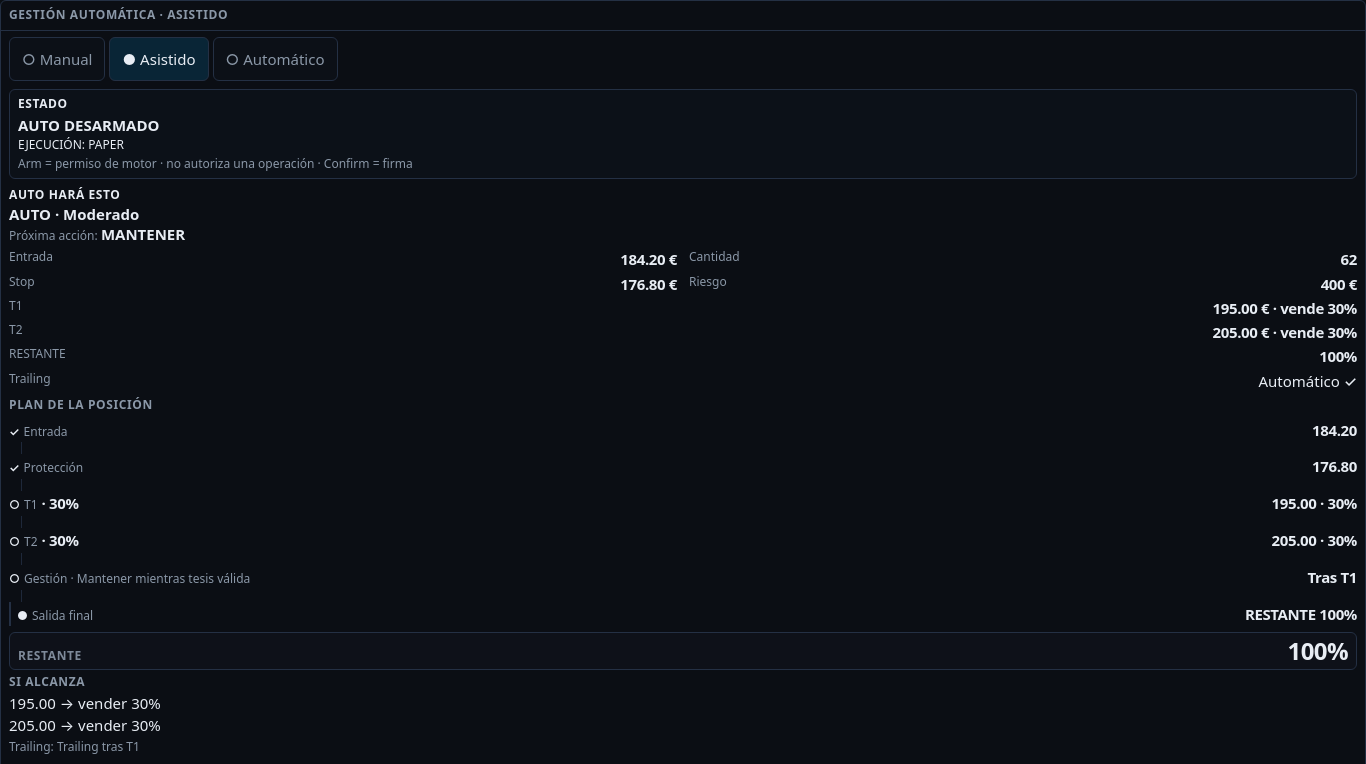
Test: AutoDeskPanel V2.39 arm honesty › V2.46 — stale arm latch in SEMI chrome stays DESARMADO until AUTO active
Expected: the text with test id "auto-desk-arm-state-label" reads "AUTO DESARMADO", [18,115,160,135]
Click the button with test id "auto-desk-mode-auto". click: (275, 59)
box: [212,37,338,81]
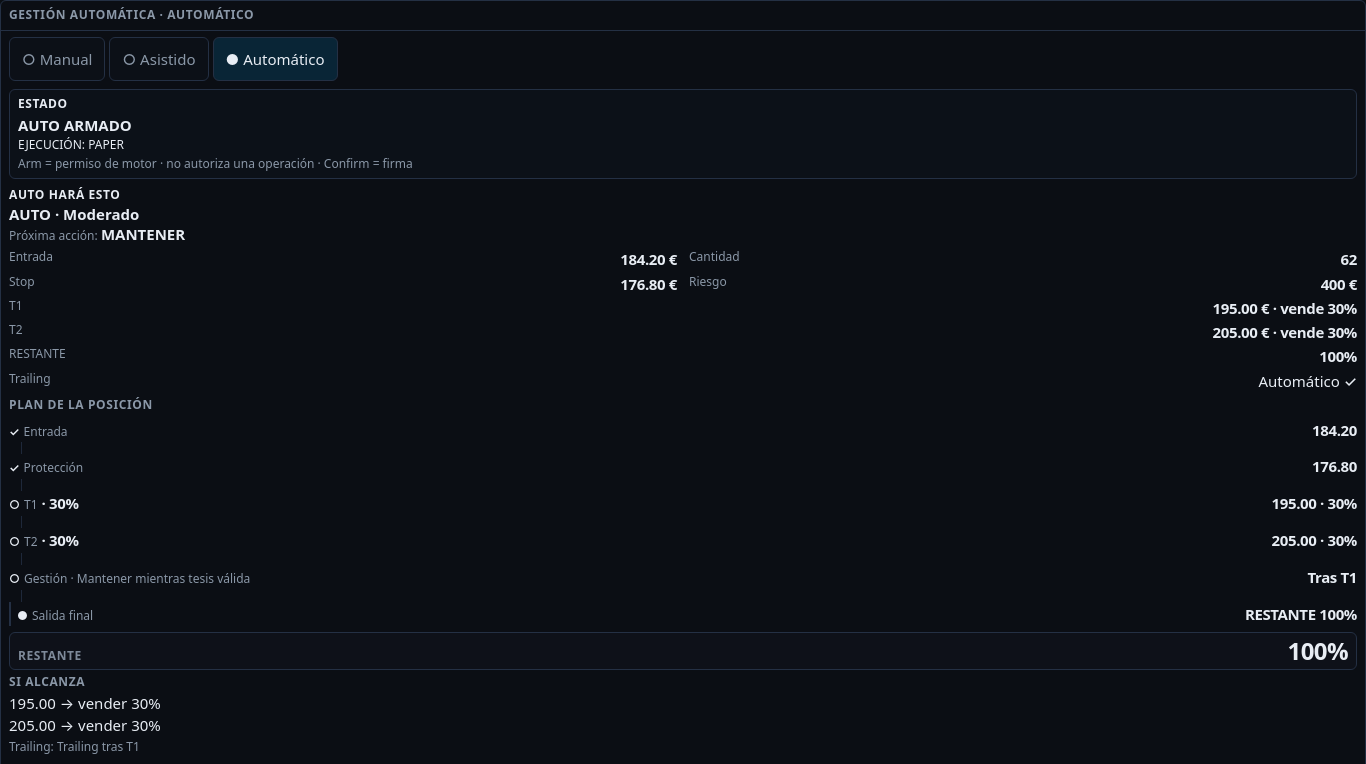
Expected: the text with test id "auto-desk-arm-state-label" reads "AUTO ARMADO", [18,115,132,135]
